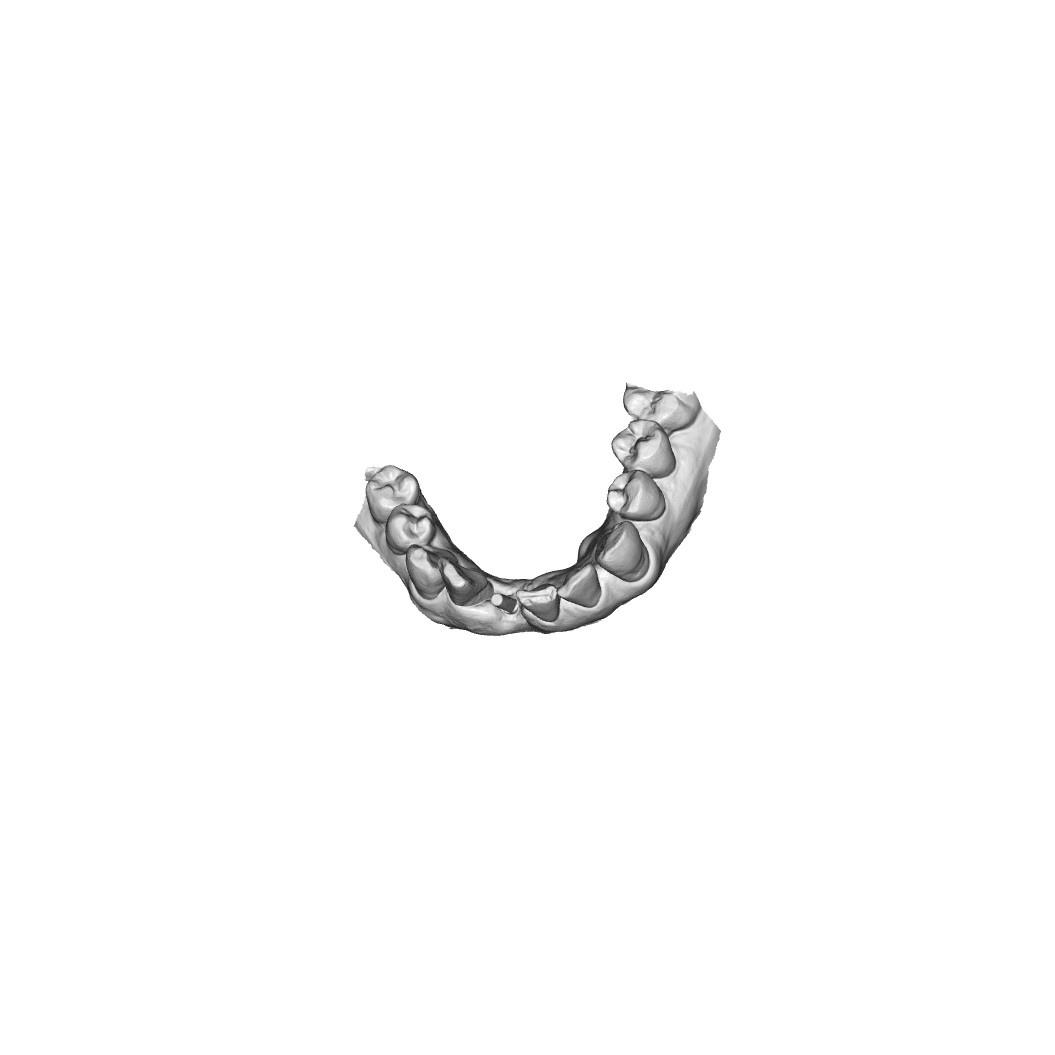abutment: (481, 586, 519, 623)
canine: (596, 520, 649, 584), (407, 545, 451, 594)
incisor: (519, 585, 565, 628), (560, 569, 609, 609), (442, 564, 488, 604)
premolar: (610, 416, 676, 475), (608, 472, 663, 524), (389, 504, 432, 552), (369, 467, 414, 512)
